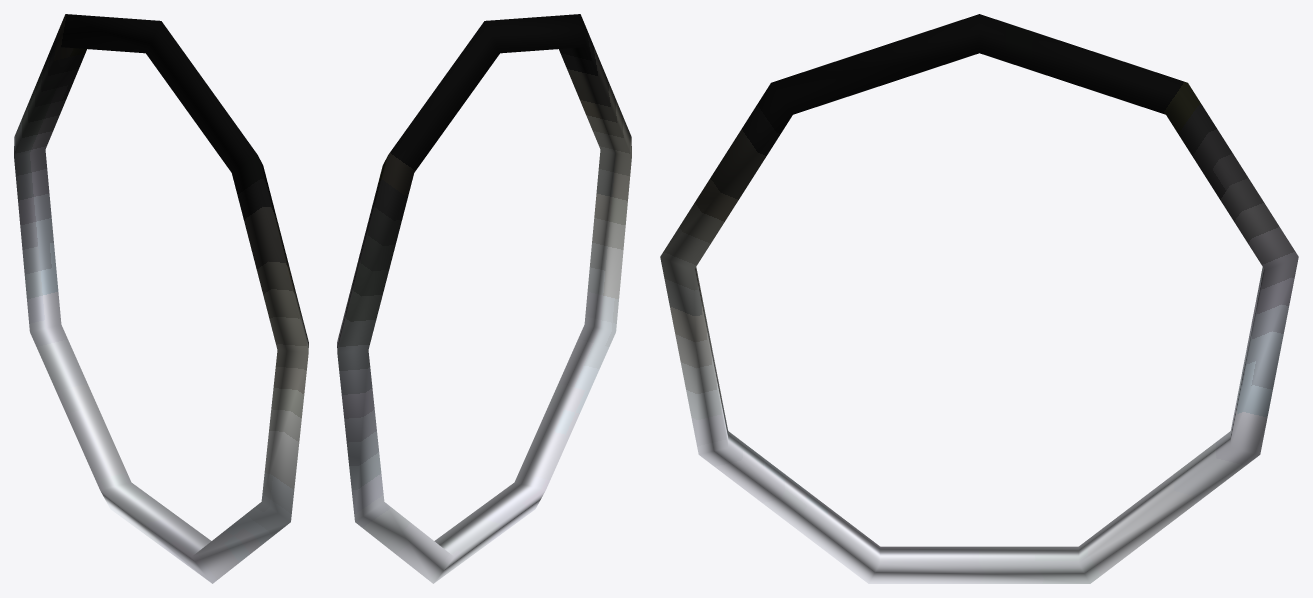
The model's file is instanceportal_white.obj.
3 renders of one model, left to right at view 1: azimuth 30°, elevation 25°; view 2: azimuth 150°, elevation 25°; view 3: azimuth 270°, elevation 25°, orthographic. The views are drawn at different scales.
Visible parts, largest first — view 1: instanceportal_white; view 2: instanceportal_white; view 3: instanceportal_white.
Part boxes in pixels (x1,y1,x2,y2): instanceportal_white: [14, 14, 308, 583]; instanceportal_white: [337, 14, 631, 583]; instanceportal_white: [660, 14, 1298, 583].
Bounding box in the file's own units: 0.5451 × 8.69 × 8.83.
